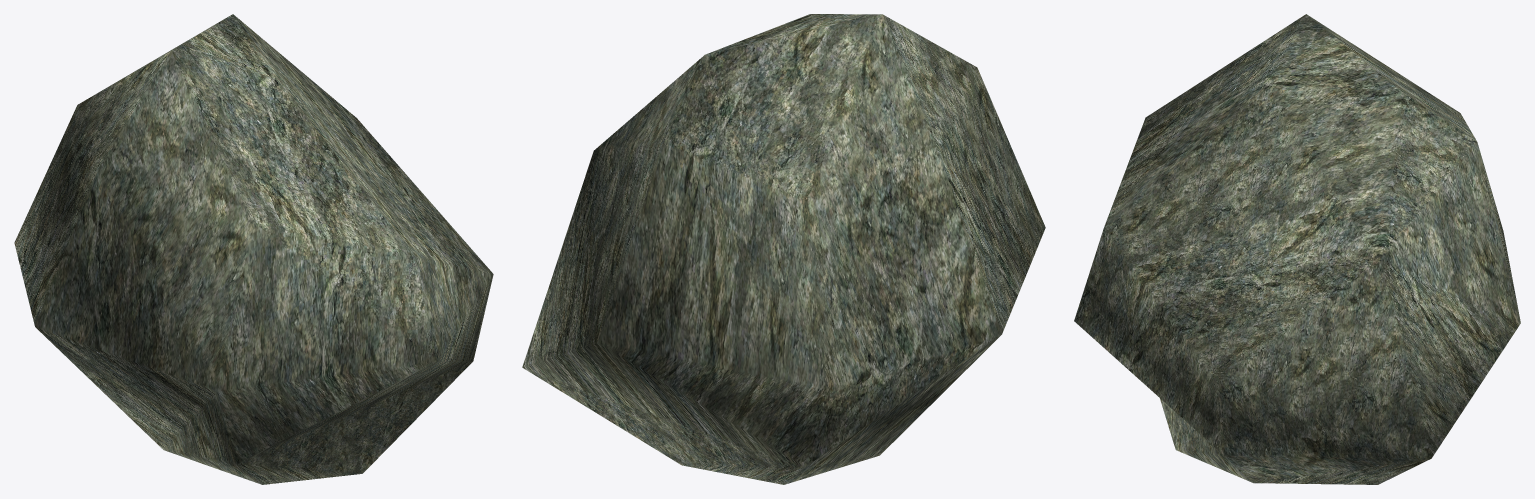
The model's file is mtns_rock_grey_a2_l1.fbx.
3 views of the same model, side by side, from view 1: azimuth 30°, elevation 25°; view 2: azimuth 150°, elevation 25°; view 3: azimuth 270°, elevation 25° (orthographic). The views are drawn at different scales.
Parts seen in each view (by area): view 1: mesh_node; view 2: mesh_node; view 3: mesh_node.
Part boxes in pixels (<box>): mesh_node: <box>14,14,493,484</box>; mesh_node: <box>522,14,1045,484</box>; mesh_node: <box>1074,14,1520,484</box>.
Bounding box in the file's own units: 1.26 × 1.22 × 1.3.
Materials: 1 (1 with a texture image).
